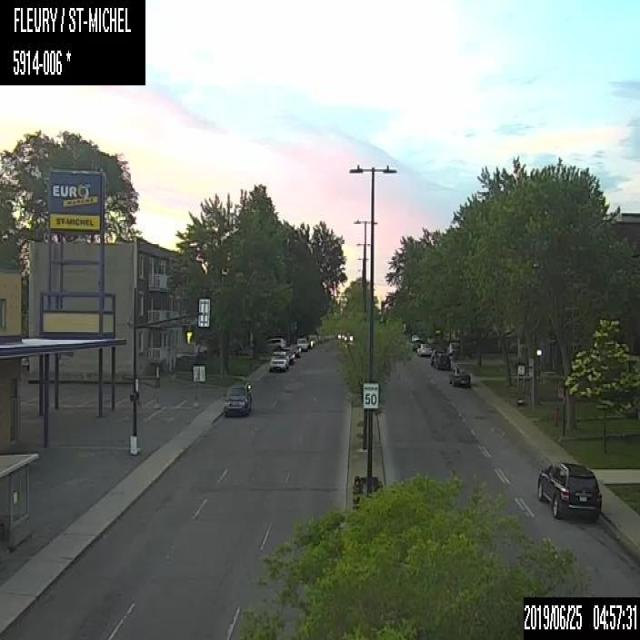vehicle: (535, 457, 603, 519), (221, 378, 254, 417), (448, 364, 470, 386), (429, 348, 450, 370), (269, 350, 288, 371), (446, 341, 461, 359), (266, 337, 285, 350), (416, 342, 432, 355), (283, 346, 294, 364), (304, 333, 317, 348), (296, 336, 308, 351), (291, 344, 301, 358), (344, 331, 354, 342)
